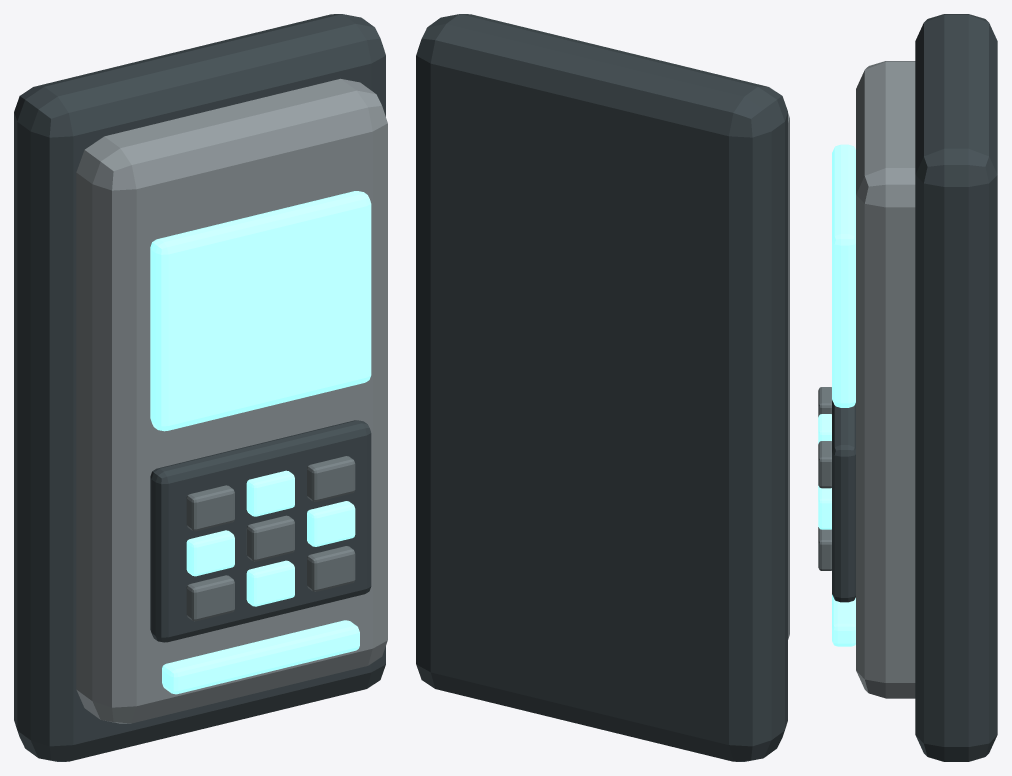
Rendered from AccessPanel_A.fbx.
3 renders of one model, left to right at view 1: azimuth 30°, elevation 25°; view 2: azimuth 150°, elevation 25°; view 3: azimuth 270°, elevation 25°, orthographic. The views are drawn at different scales.
Parts seen in each view (by area): view 1: Access Panel Housing, Access Panel Backplate, Access Panel Status Screen, Access Panel Keybed, Access Panel Lower Light, Access Panel Key.003, Access Panel Key, Access Panel Key.001, Access Panel Key.004, Access Panel Key.006, Access Panel Key.008, Access Panel Key.002 (+2 smaller); view 2: Access Panel Backplate, Access Panel Housing; view 3: Access Panel Backplate, Access Panel Housing, Access Panel Status Screen, Access Panel Keybed, Access Panel Lower Light, Access Panel Key.008, Access Panel Key.002, Access Panel Key.005, Access Panel Key.006, Access Panel Key.007.
Part boxes in pixels (x1,y1,x2,y2): Access Panel Housing: (76, 78, 387, 723); Access Panel Backplate: (14, 14, 385, 761); Access Panel Status Screen: (150, 191, 371, 431); Access Panel Keybed: (150, 420, 371, 642); Access Panel Lower Light: (162, 620, 359, 694); Access Panel Key.003: (186, 530, 234, 576); Access Panel Key: (186, 575, 234, 621); Access Panel Key.001: (246, 560, 294, 606); Access Panel Key.004: (246, 515, 294, 561); Access Panel Key.006: (186, 485, 234, 531); Access Panel Key.008: (307, 456, 355, 501); Access Panel Key.002: (307, 546, 355, 591); Access Panel Backplate: (416, 14, 787, 761); Access Panel Housing: (788, 113, 789, 639); Access Panel Backplate: (915, 14, 997, 761); Access Panel Housing: (856, 61, 915, 698); Access Panel Status Screen: (832, 144, 855, 407); Access Panel Keybed: (832, 400, 855, 602); Access Panel Lower Light: (832, 594, 855, 646); Access Panel Key.008: (818, 441, 831, 488); Access Panel Key.002: (818, 527, 831, 570); Access Panel Key.005: (818, 486, 831, 529); Access Panel Key.006: (818, 387, 831, 416); Access Panel Key.007: (818, 414, 831, 443).
Size of the model in its own units: 0.82 by 1.48 by 0.3925.
